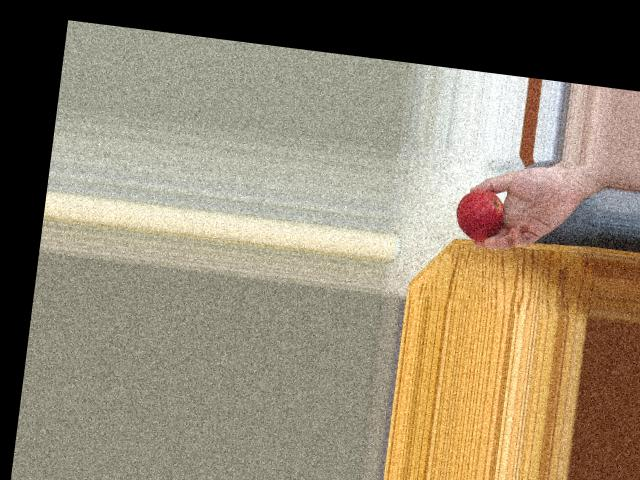apple: (451, 183, 507, 245)
